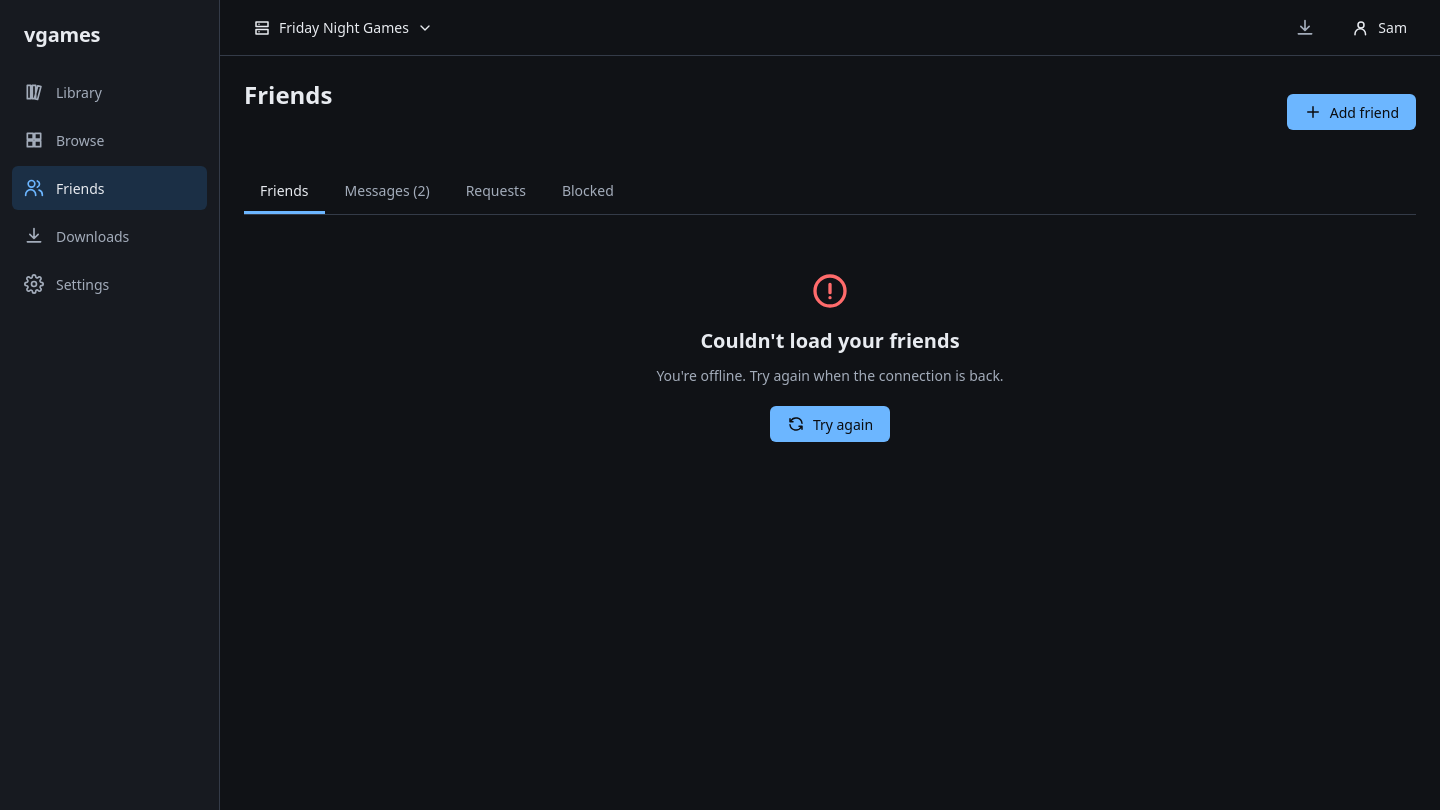
Scenario: friends list › shows a load error with a retry
This screenshot has width=1440, height=810.
expect the heading "Couldn't load your friends" is shown: met, box [700, 328, 960, 353]
expect the text "You're offline. Try again when the connection is back." is shown: met, box [656, 365, 1004, 386]
Click the button "Try again" at (830, 424), box [770, 406, 890, 442]
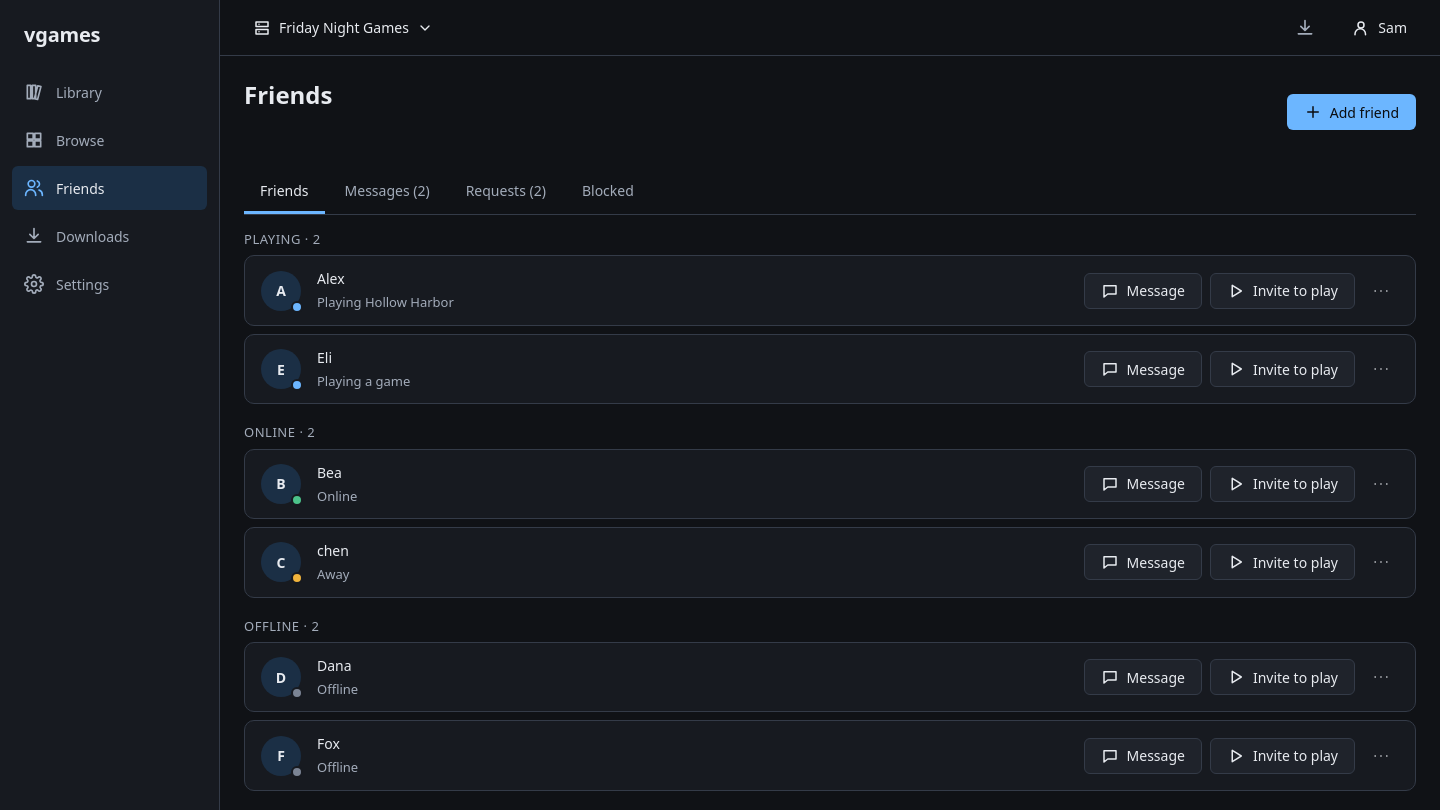
expect the text "Alex" is shown: met, box [317, 269, 345, 288]
